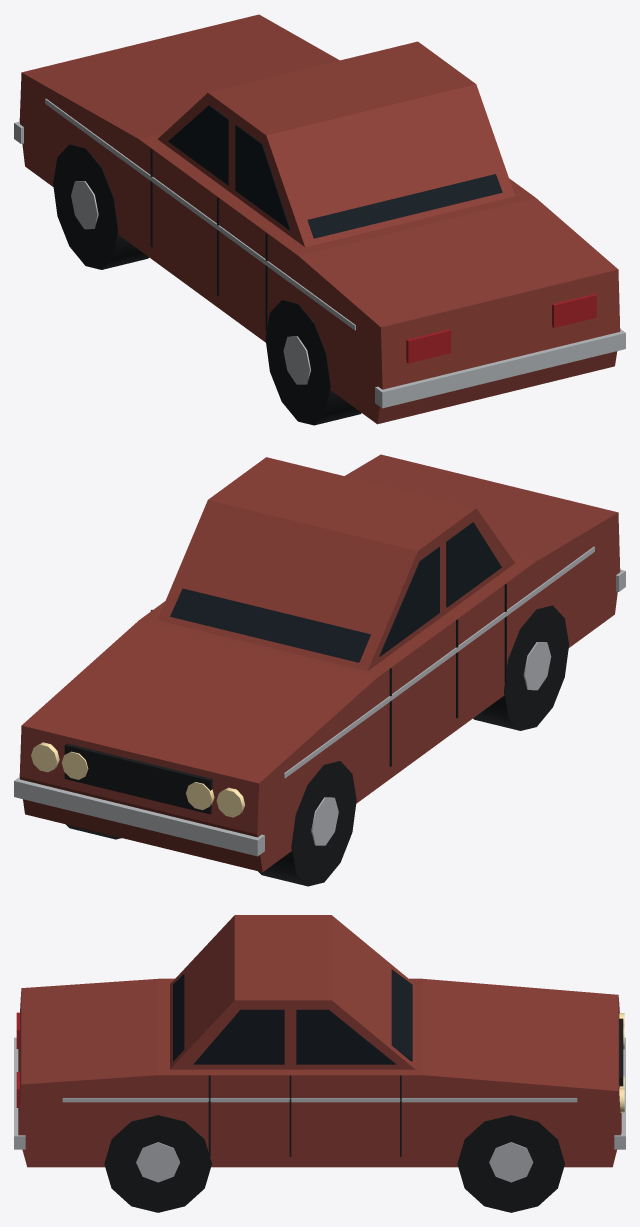
Rendered from car-moskvich.glb.
3 renders of one model, top to bottom at view 1: azimuth 30°, elevation 25°; view 2: azimuth 150°, elevation 25°; view 3: azimuth 270°, elevation 25°, orthographic. The views are drawn at different scales.
Visible parts, largest first — view 1: 01_paint0, 00_#1e2022_noshadow_r320, 02_#1a2026_noshadow_r320, 03_#b8bcc0_noshadow_r110, 05_#a3262c_noshadow_r110; view 2: 01_paint0, 00_#1e2022_noshadow_r320, 02_#1a2026_noshadow_r320, 03_#b8bcc0_noshadow_r110, 04_#ffe9b0_noshadow; view 3: 01_paint0, 00_#1e2022_noshadow_r320, 02_#1a2026_noshadow_r320, 03_#b8bcc0_noshadow_r110.
Boxes of the visible parts, x1=… form: 01_paint0: x1=19, y1=14, x2=620, y2=424; 00_#1e2022_noshadow_r320: x1=53, y1=144, x2=361, y2=425; 02_#1a2026_noshadow_r320: x1=168, y1=105, x2=502, y2=238; 03_#b8bcc0_noshadow_r110: x1=14, y1=98, x2=625, y2=408; 05_#a3262c_noshadow_r110: x1=406, y1=294, x2=596, y2=363; 01_paint0: x1=19, y1=454, x2=620, y2=872; 00_#1e2022_noshadow_r320: x1=64, y1=584, x2=569, y2=886; 02_#1a2026_noshadow_r320: x1=170, y1=522, x2=501, y2=662; 03_#b8bcc0_noshadow_r110: x1=14, y1=546, x2=625, y2=856; 04_#ffe9b0_noshadow: x1=31, y1=742, x2=244, y2=817; 01_paint0: x1=18, y1=915, x2=621, y2=1167; 00_#1e2022_noshadow_r320: x1=104, y1=1018, x2=623, y2=1212; 02_#1a2026_noshadow_r320: x1=173, y1=969, x2=412, y2=1064; 03_#b8bcc0_noshadow_r110: x1=14, y1=1037, x2=625, y2=1182.
Bounding box in the file's own units: 1.59 × 1.55 × 4.16.
